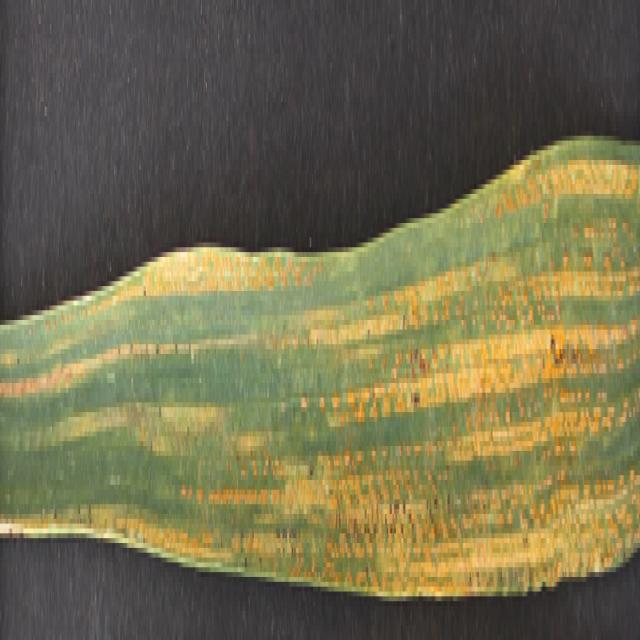leaf rust: (1, 160, 638, 596)
